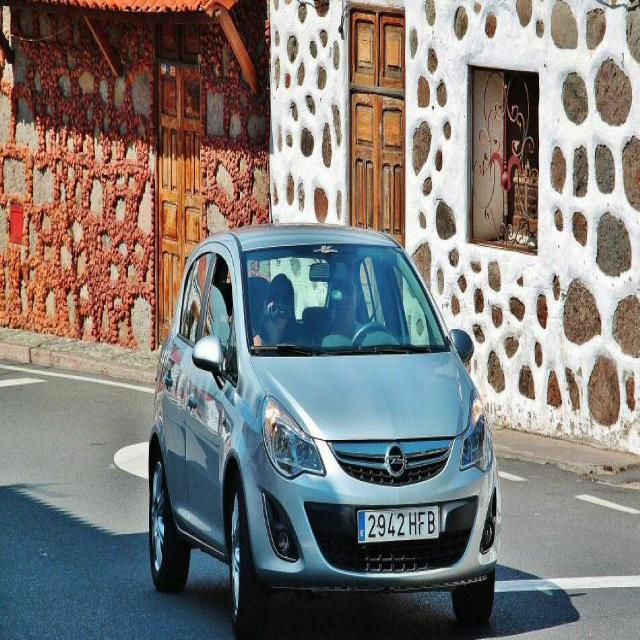License-Plate: (357, 501, 440, 544)
